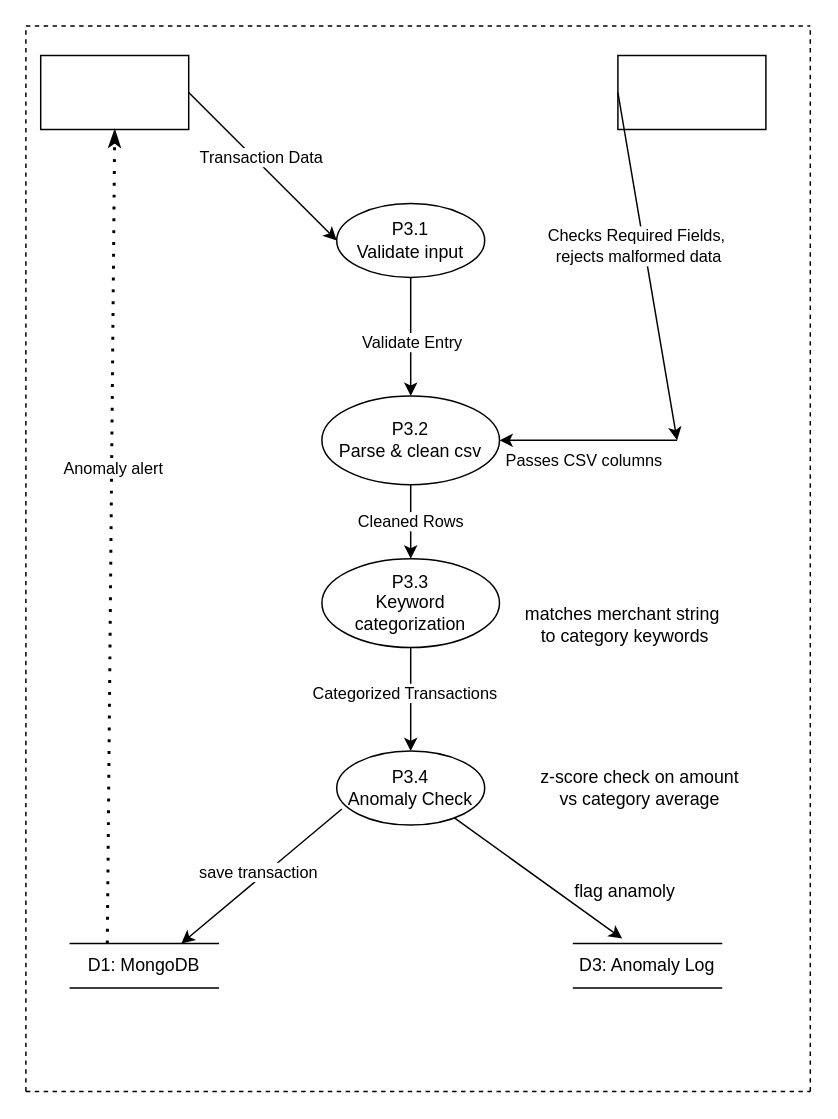
The diagram is 838 pixels wide and 1119 high, and some of its shapes have lost their labels. Here are the shapes that lost their labels. From the top down, the centre of each, then its label:
At point 114,92: "User".
At point 691,92: "Bank/CSV".
